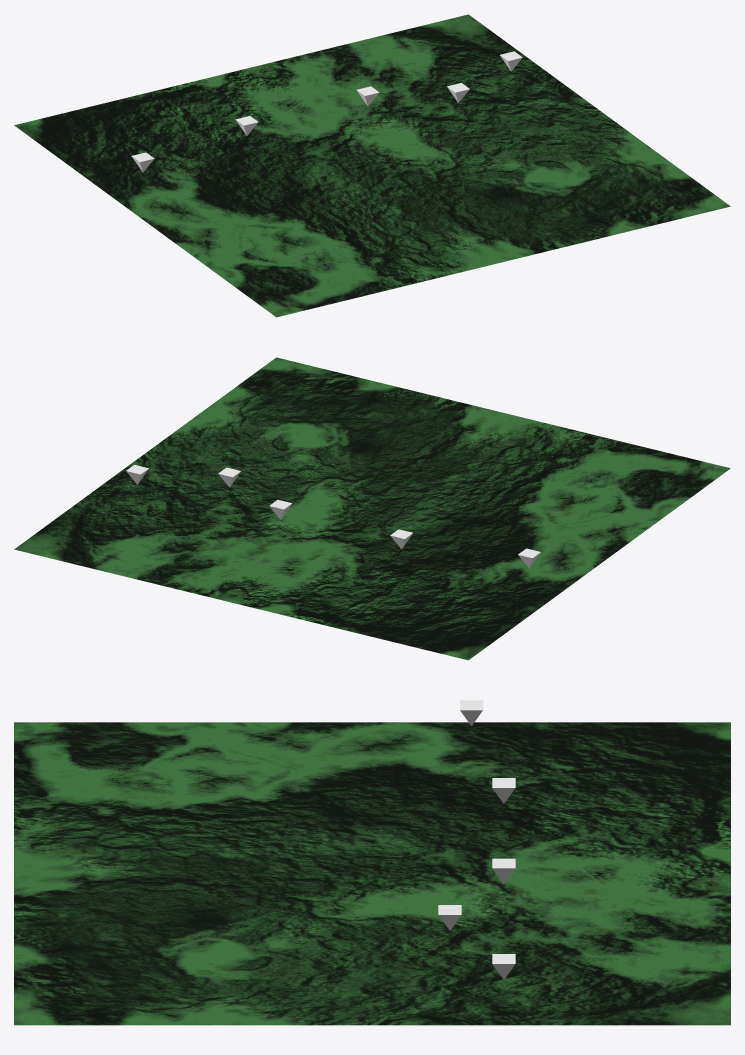
File: bldg_acid.gltf
3 views of the same model, one above another, from view 1: azimuth 30°, elevation 25°; view 2: azimuth 150°, elevation 25°; view 3: azimuth 270°, elevation 25° (orthographic). The views are drawn at different scales.
Visible parts, largest first — view 1: bldg_acid; view 2: bldg_acid; view 3: bldg_acid.
Boxes of the visible parts, left/top/right/bottom form: bldg_acid: left=14, top=14, right=730, bottom=317; bldg_acid: left=14, top=357, right=730, bottom=660; bldg_acid: left=14, top=722, right=730, bottom=1025.
Size of what is drawn, in the model's own units: 54.68 by 4.66 by 54.68.
Materials: 2 (2 with a texture image).
